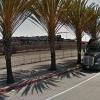Palm tree: (5, 1, 80, 78)
